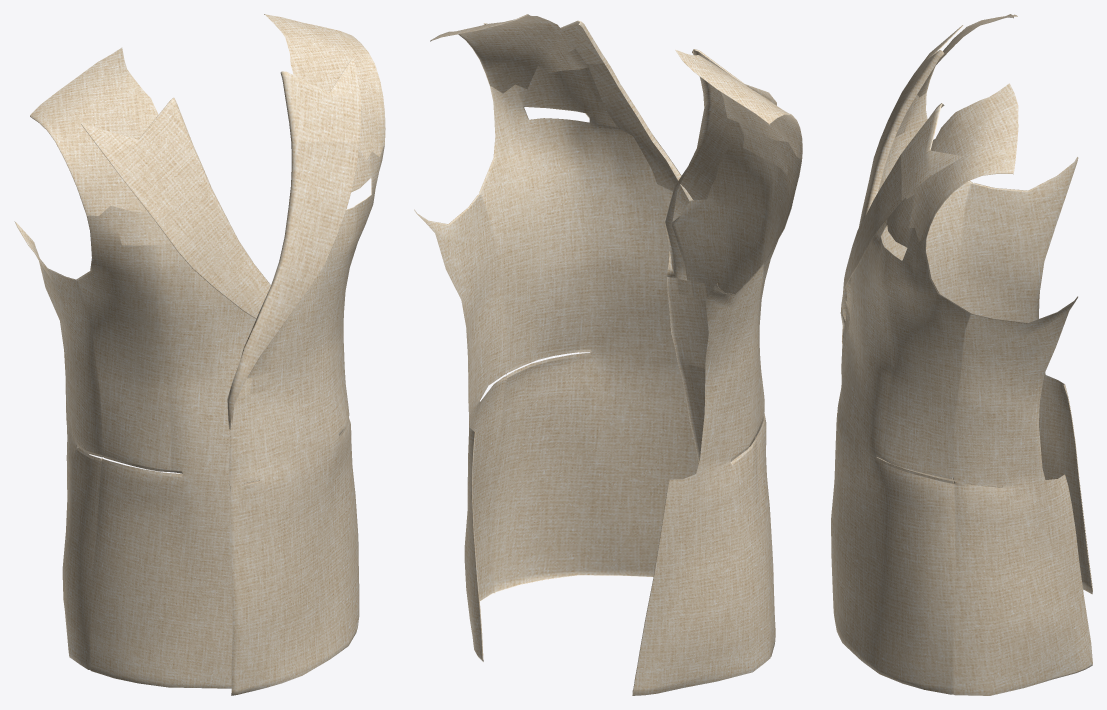
Rendered from peak_double_breasted_wide.glb.
3 views of the same model, side by side, from view 1: azimuth 30°, elevation 25°; view 2: azimuth 150°, elevation 25°; view 3: azimuth 270°, elevation 25° (orthographic). The views are drawn at different scales.
Parts seen in each view (by area): view 1: peak_double_breasted_wide1; view 2: peak_double_breasted_wide1; view 3: peak_double_breasted_wide1.
Boxes of the visible parts, x1,y1,x2,y2 form: peak_double_breasted_wide1: [14, 14, 385, 695]; peak_double_breasted_wide1: [414, 14, 802, 695]; peak_double_breasted_wide1: [831, 14, 1092, 695].
Size of the model in its own units: 0.0586 by 0.1017 by 0.0414.
2 materials, 1 textured.
